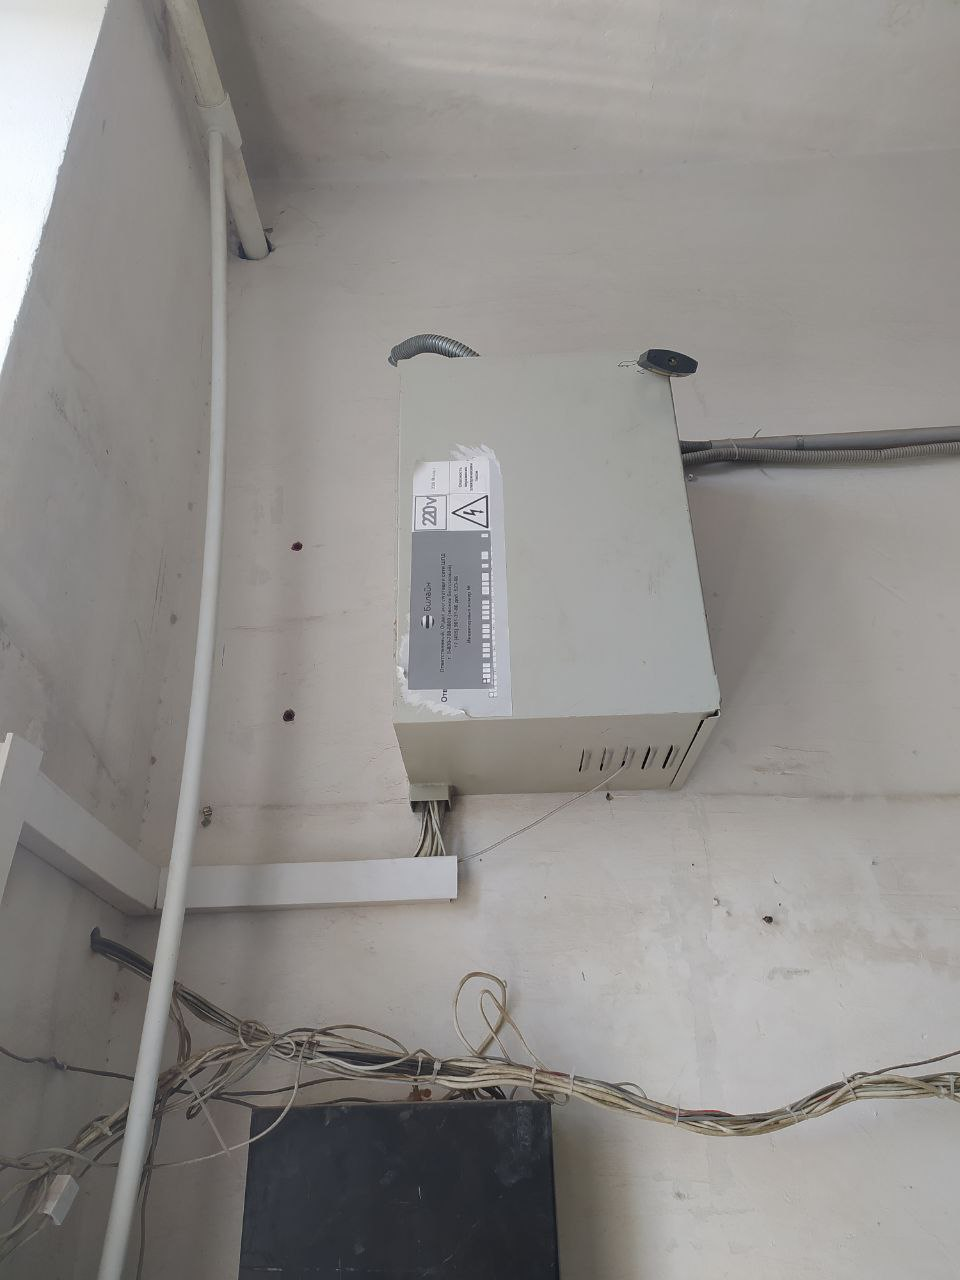sv-5: (385, 336, 729, 810)
